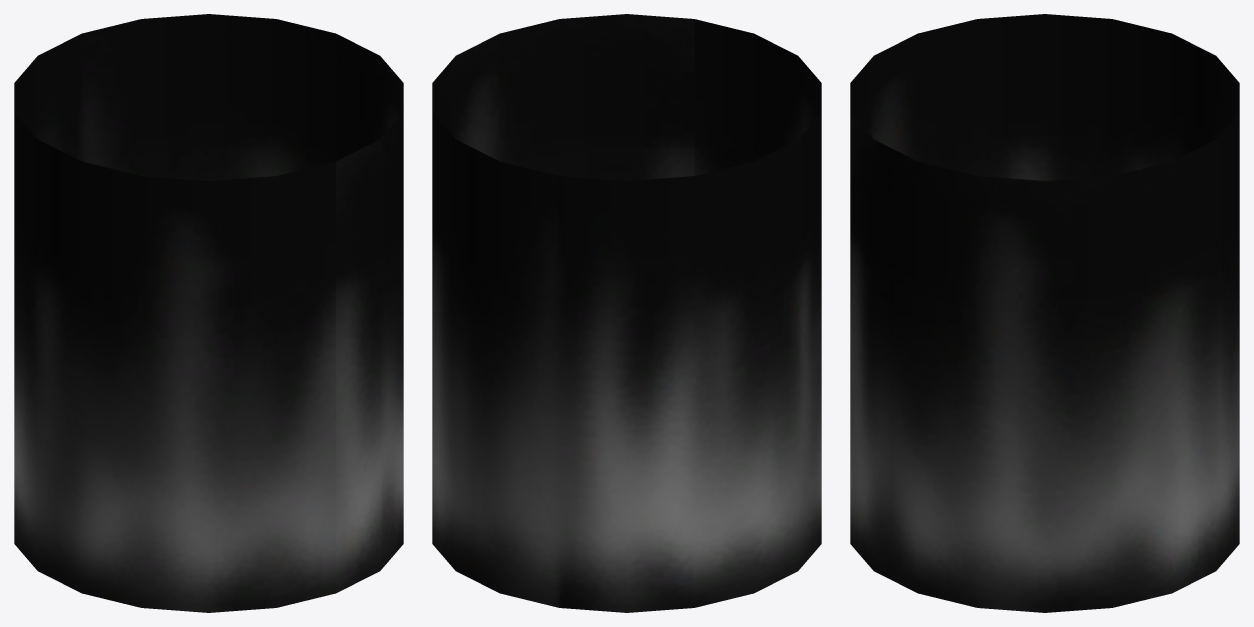
File: lightcylinder.FBX
3 renders of one model, left to right at view 1: azimuth 30°, elevation 25°; view 2: azimuth 150°, elevation 25°; view 3: azimuth 270°, elevation 25°, orthographic.
Parts seen in each view (by area): view 1: lightcylinder; view 2: lightcylinder; view 3: lightcylinder.
Boxes of the visible parts, left/top/right/bottom form: lightcylinder: left=14, top=14, right=403, bottom=612; lightcylinder: left=432, top=14, right=821, bottom=612; lightcylinder: left=850, top=14, right=1239, bottom=612.
Size of the model in its own units: 30 by 36.17 by 29.54.
1 material, 1 textured.
